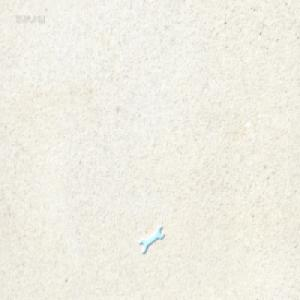Wrench: (140, 225, 164, 254)
